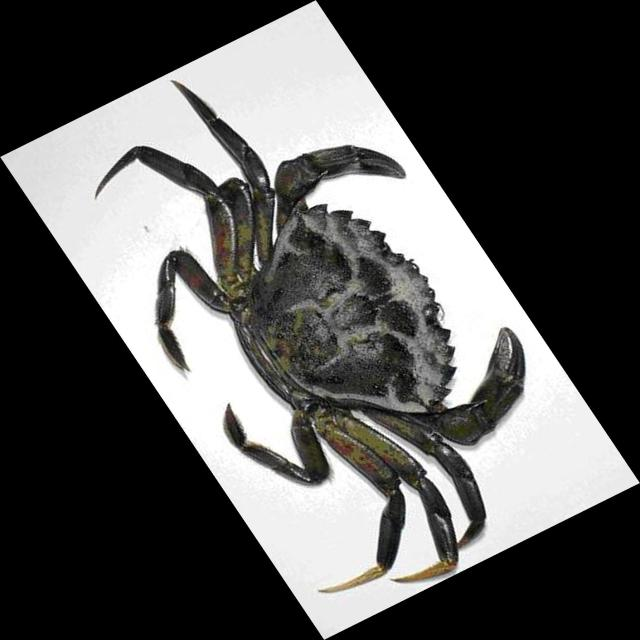European Green crab: (95, 81, 525, 593)
